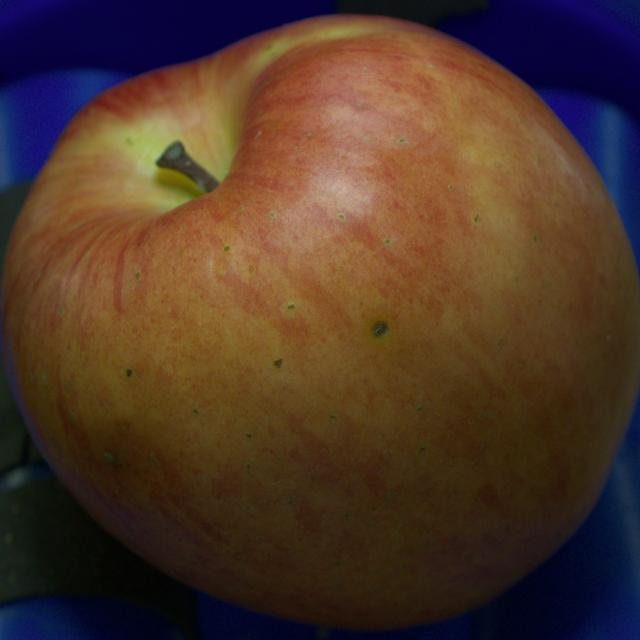apple: (0, 16, 639, 628)
pest: (372, 321, 388, 337)
